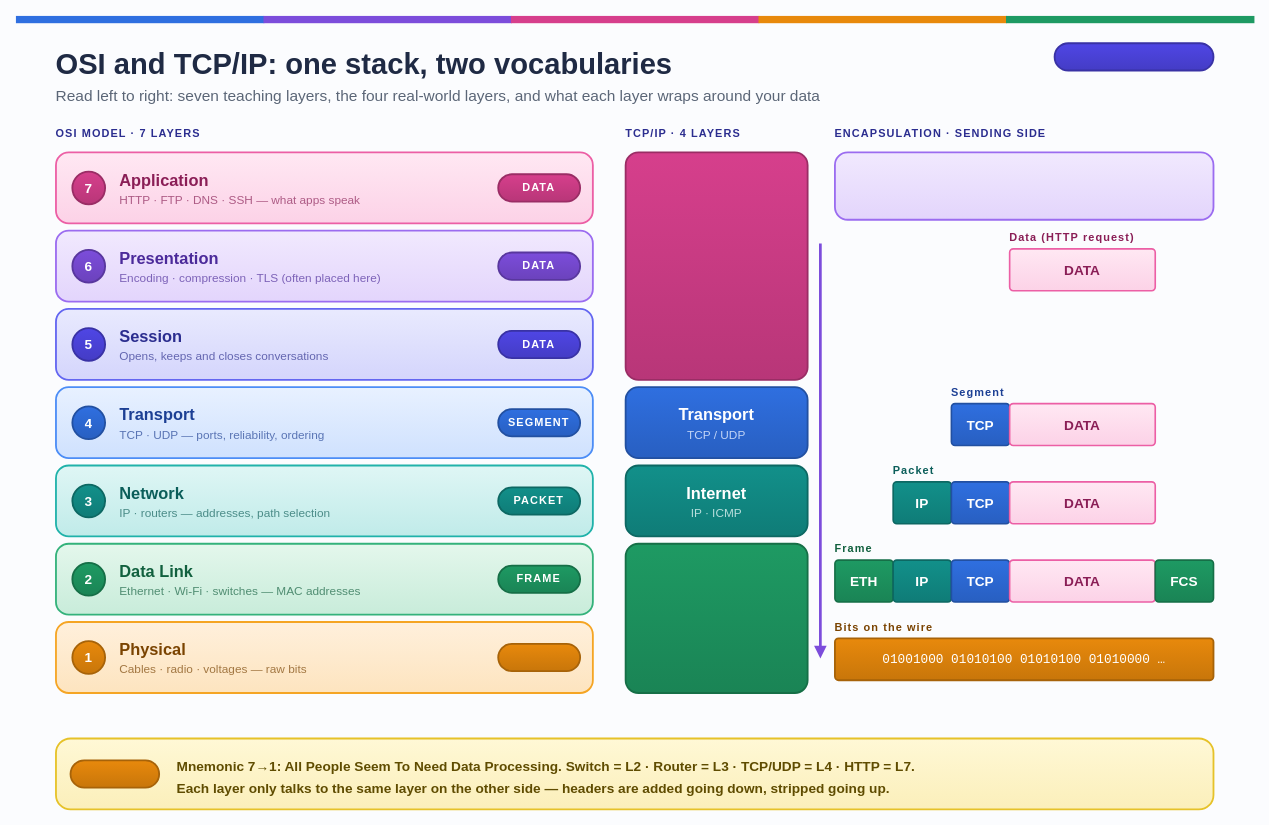
Some shapes in this 1269 by 825 pixel diagram are drawn without their labels. The shapes that lost their labels are listed below. From the top down, each one's centre as x and y in pixels, then its label:
At point 1133,56: "STAGE 01 · MODELS".
At point 1024,185: "SENDER wraps going down ↓ RECEIVER unwraps going up ↑".
At point 716,265: "Application HTTP · DNS · TLS".
At point 716,617: "Link Ethernet · Wi-Fi".
At point 539,657: "BITS".
At point 114,773: "REMEMBER".
